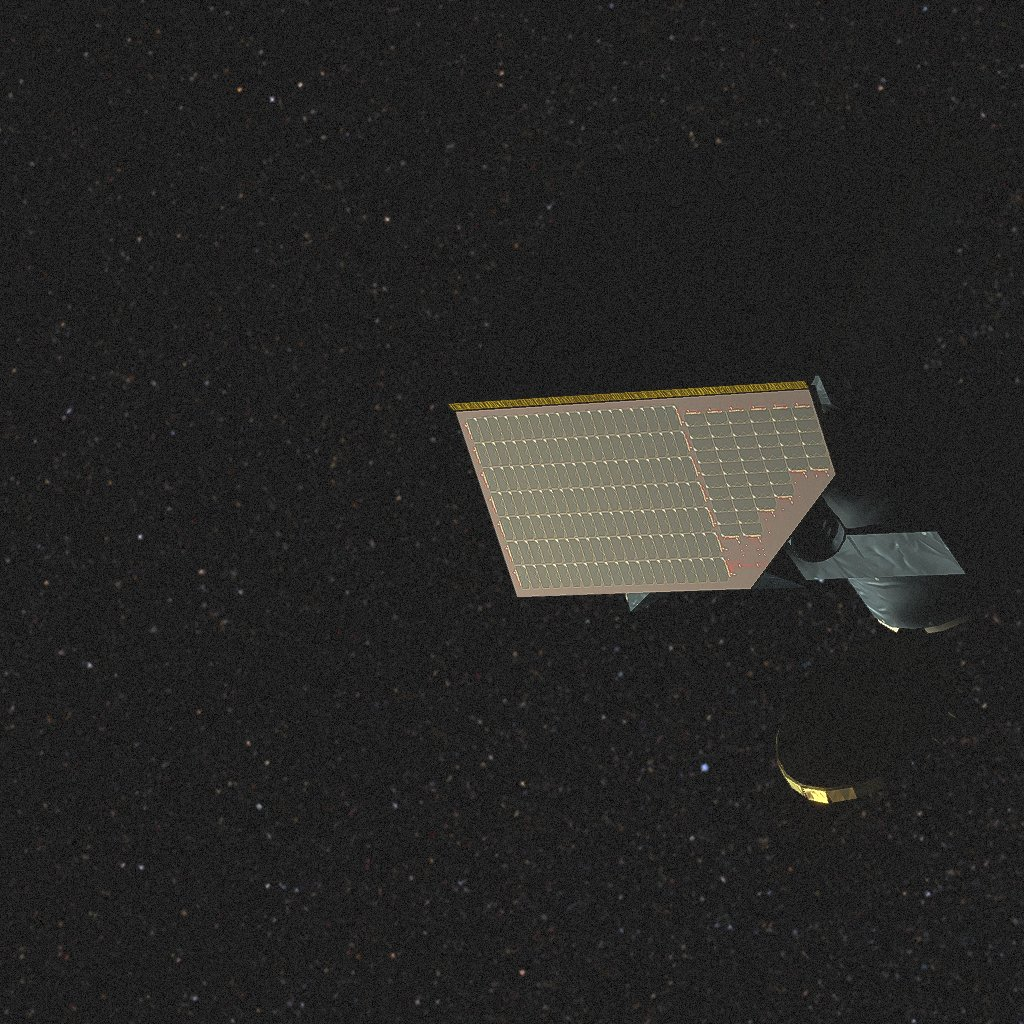cheops: (448, 125, 1024, 804)
